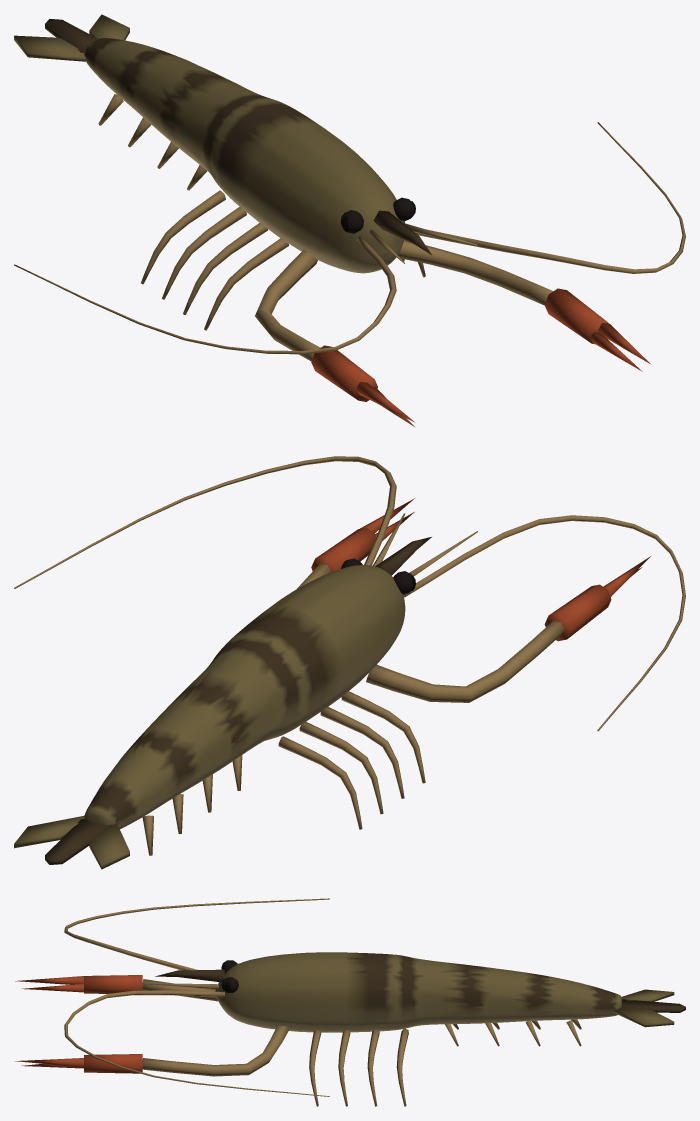
Rendered from Palaeopalaemon.fbx.
3 views of the same model, one above another, from view 1: azimuth 30°, elevation 25°; view 2: azimuth 150°, elevation 25°; view 3: azimuth 270°, elevation 25° (orthographic). The views are drawn at different scales.
Visible parts, largest first — view 1: Palaeopalaemon; view 2: Palaeopalaemon; view 3: Palaeopalaemon.
Boxes of the visible parts, x1,y1,x2,y2 form: Palaeopalaemon: (14,14,685,427); Palaeopalaemon: (14,456,685,869); Palaeopalaemon: (15,898,685,1106).
Bounding box in the file's own units: 0.8018 × 0.2151 × 1.15.
